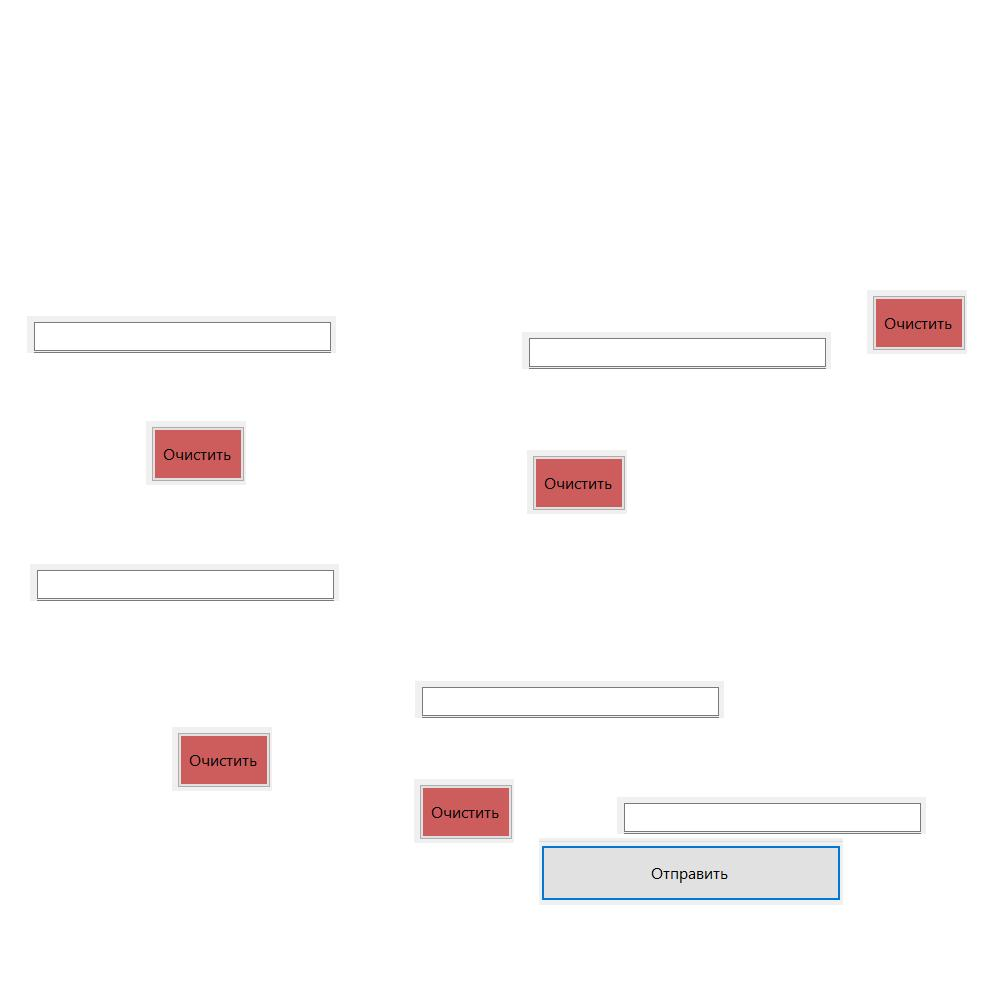Button: (539, 838, 843, 905), (146, 421, 246, 485), (414, 779, 514, 843), (172, 727, 272, 791), (867, 290, 967, 354), (527, 450, 627, 514)
EditText-: (415, 681, 724, 718), (27, 316, 336, 353), (522, 332, 831, 369), (30, 564, 339, 601), (617, 797, 926, 834)
